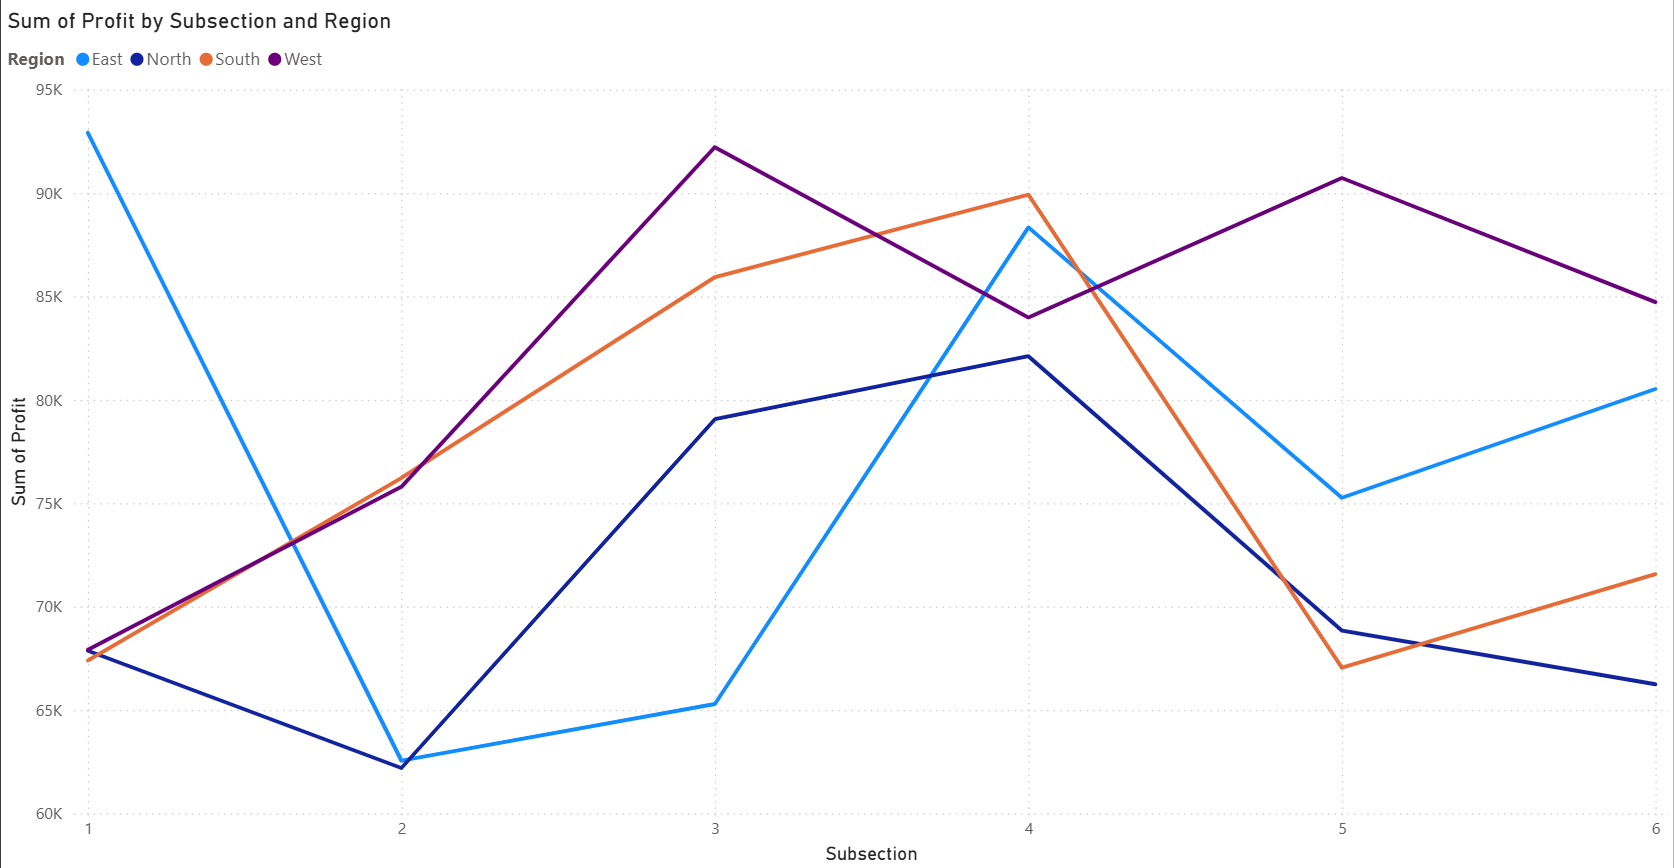

Layout of this report page (visuals, bound fields, positions):
{"tool":"powerbi","page":{"name":"Page 6","canvas":[1280,720],"ordinal":5},"visuals":[{"type":"lineChart","fields":{"Series":["ecommerce_added_columns (4).Region"],"Y":["Sum(ecommerce_added_columns (4).Profit)"],"Category":["ecommerce_added_columns (4).Subsection"]},"box":[0,59.7,1281.5,659.9],"z":0}]}

Visuals, with their boxes on the page's 1280x720 design canvas (x1, y1, x2, y2). These are canvas units, not pixel positions in the 1674x868 screenshot, which may show the page scaled, cropped or inside an application window:
lineChart - ecommerce_added_columns (4).Region x Sum(ecommerce_added_columns (4).Profit): <region>0, 60, 1282, 720</region>
